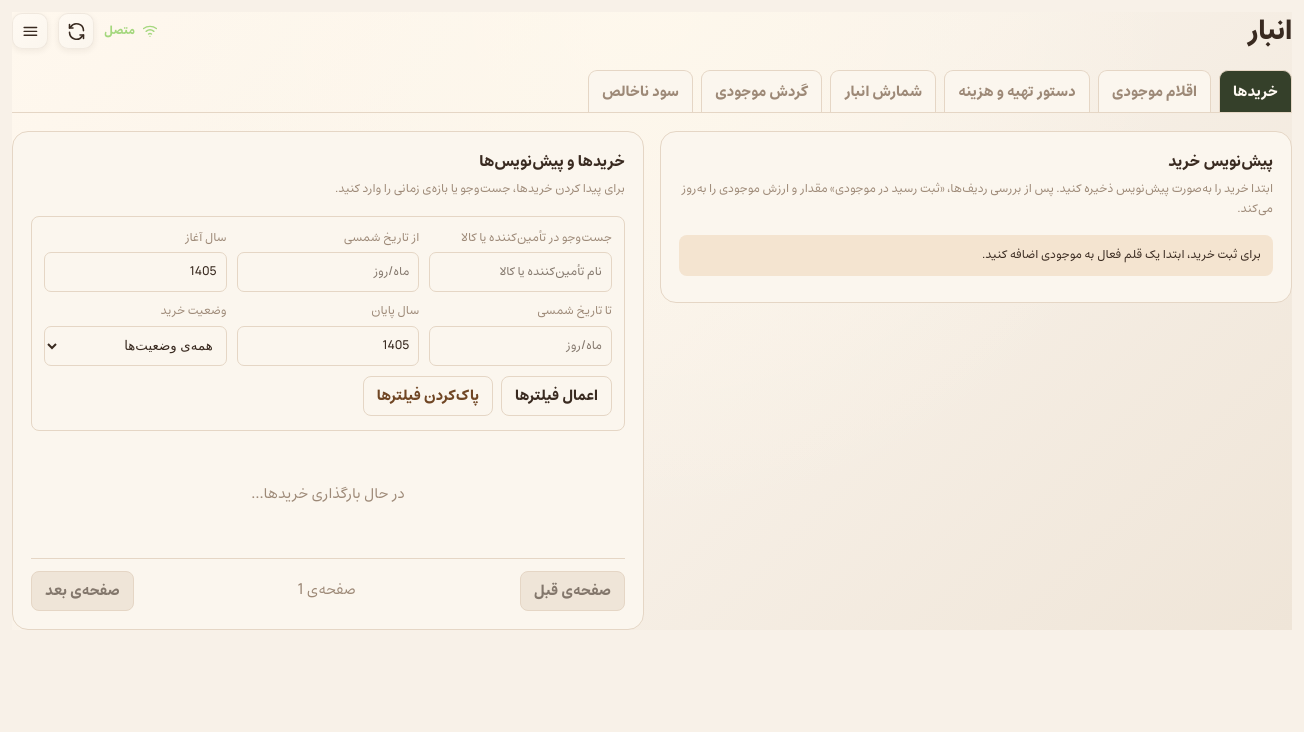
ManagerWorkspace › opens the Manager inventory workspace and loads its inventory data
Check: the heading "پیش‌نویس خرید" is shown, box [1168, 150, 1273, 174]
Click the button "شمارش انبار".
click(883, 91)  # box [830, 70, 936, 112]
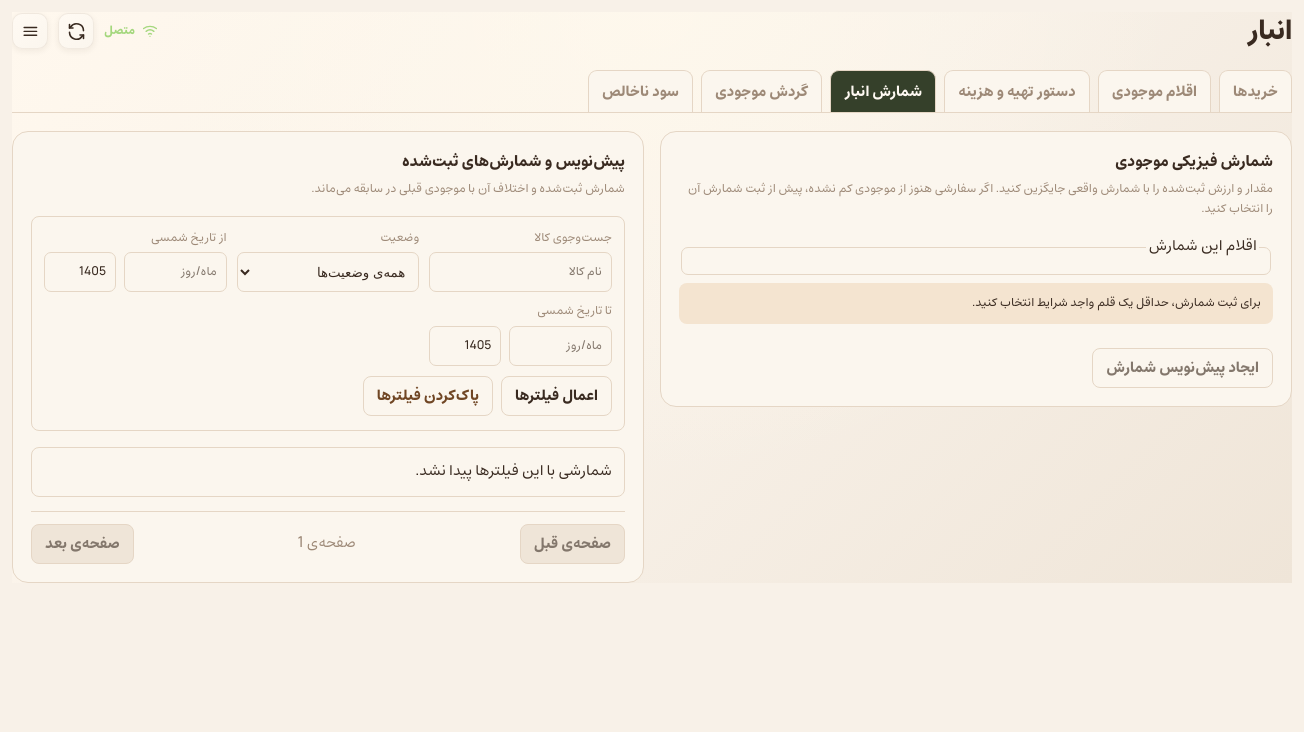
Click the button "سود ناخالص".
click(640, 91)  # box [588, 70, 693, 112]
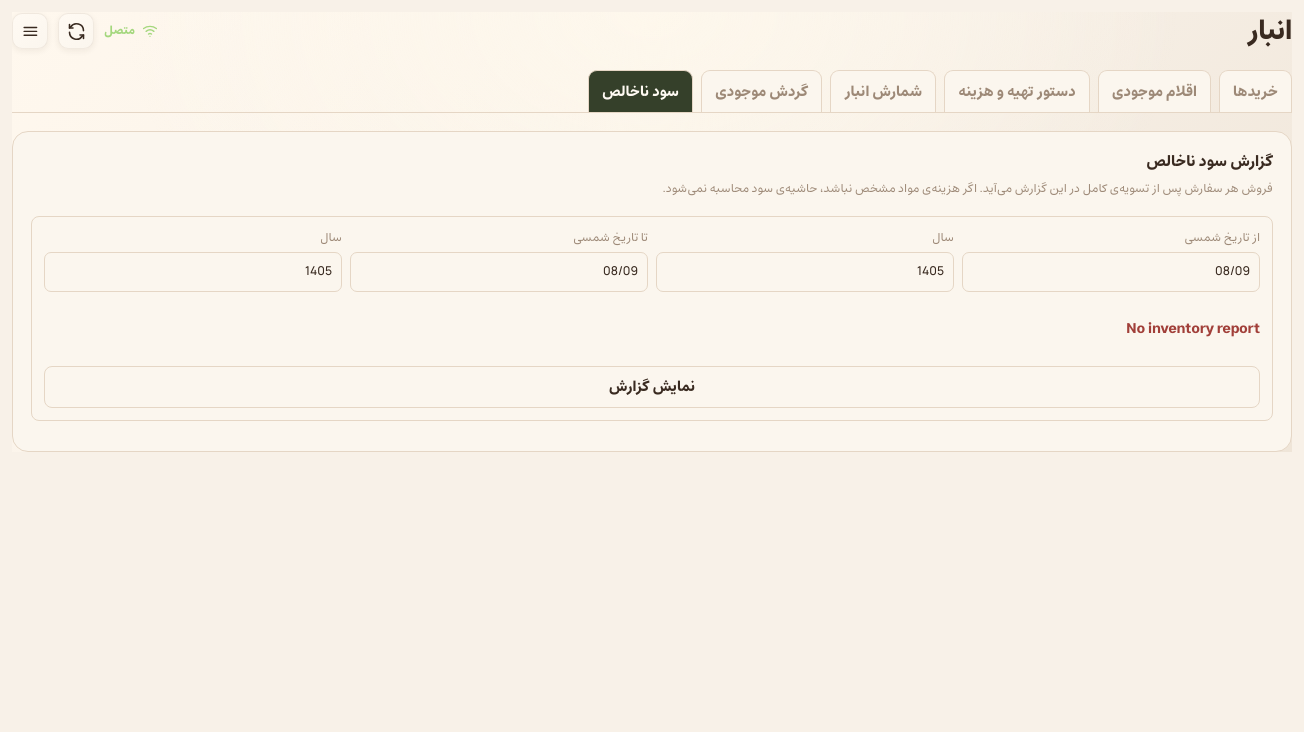
Check: the heading "گزارش سود ناخالص" is shown, box [1146, 150, 1273, 174]
